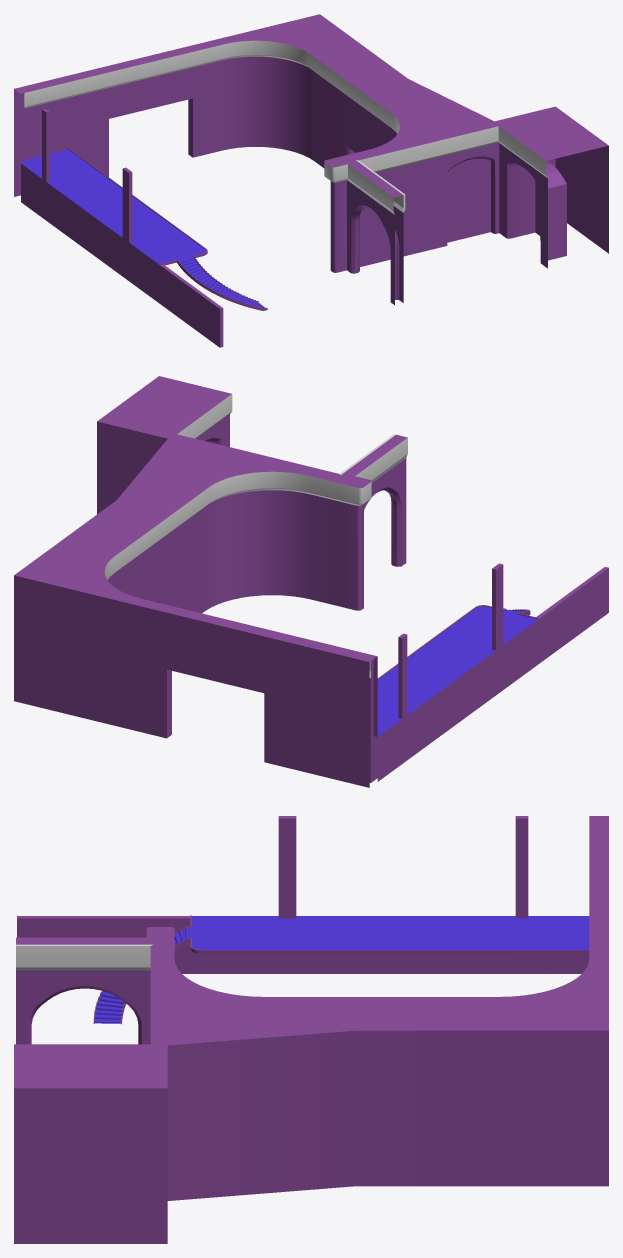
File: Cafeteria Walls 1.fbx
3 views of the same model, one above another, from view 1: azimuth 30°, elevation 25°; view 2: azimuth 150°, elevation 25°; view 3: azimuth 270°, elevation 25° (orthographic). The views are drawn at different scales.
Visible parts, largest first — view 1: Cafeteria; view 2: Cafeteria; view 3: Cafeteria.
Boxes of the visible parts, left/top/right/bottom form: Cafeteria: left=14, top=14, right=608, bottom=347; Cafeteria: left=14, top=376, right=608, bottom=787; Cafeteria: left=14, top=816, right=608, bottom=1243.
Size of the model in its own units: 11293 by 3010 by 10431.
